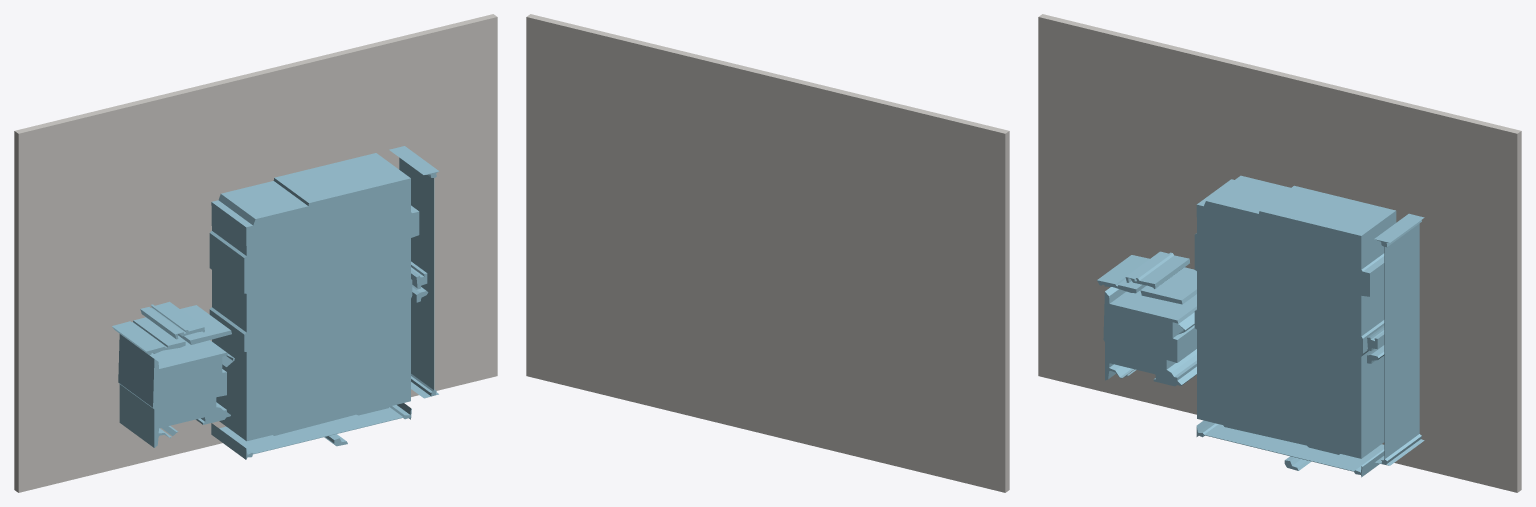
The picture shows the model from 3 angles, left to right: view 1: azimuth 30°, elevation 25°; view 2: azimuth 150°, elevation 25°; view 3: azimuth 330°, elevation 25°; orthographic projection.
Visible parts, largest first — view 1: world; view 2: world; view 3: world.
Part boxes in pixels (bbox=[...]): world: bbox=[14, 14, 497, 492]; world: bbox=[526, 14, 1009, 492]; world: bbox=[1038, 14, 1521, 492].
Size of the model in its own units: 10.23 by 7.33 by 1.44.
